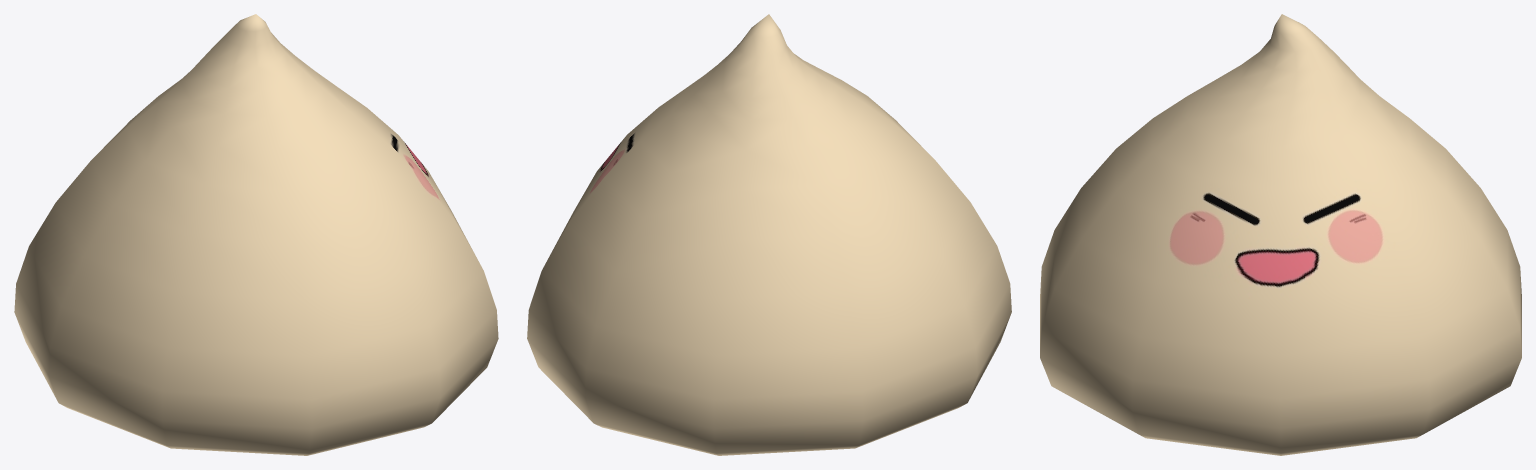
File: dumpling -pozitivni.fbx
The picture shows the model from 3 angles, left to right: view 1: azimuth 30°, elevation 25°; view 2: azimuth 150°, elevation 25°; view 3: azimuth 270°, elevation 25°; orthographic projection.
Visible parts, largest first — view 1: dumpling; view 2: dumpling; view 3: dumpling.
Boxes of the visible parts, x1,y1,x2,y2 form: dumpling: (14, 14, 498, 455); dumpling: (527, 14, 1011, 455); dumpling: (1040, 14, 1521, 455).
Size of the model in its own units: 71.11 by 56.89 by 71.11.
1 material, 1 textured.
